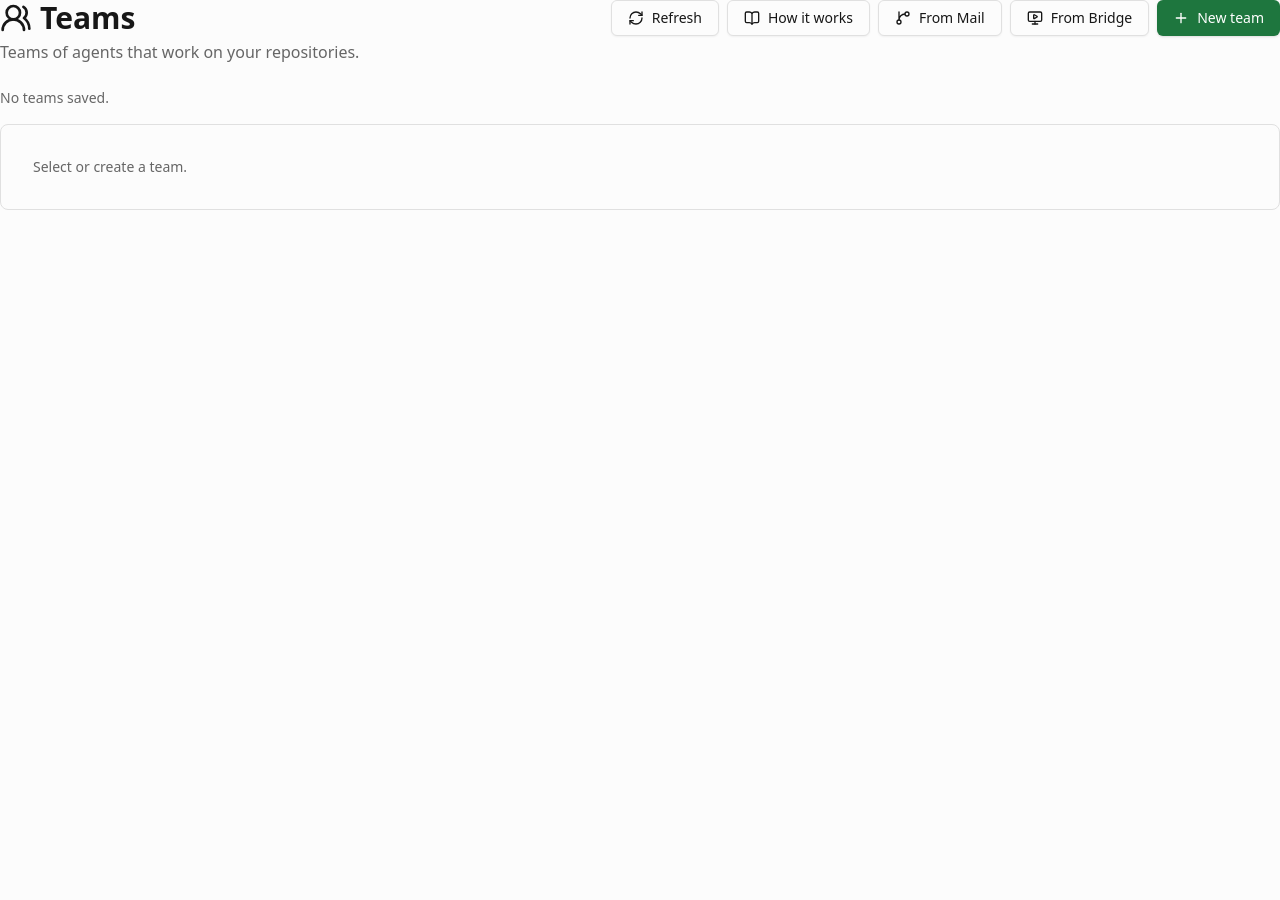
Test: From Mail › hides offline and temporary members and preselects only members that are not in a team
The width and height of the screenshot is (1280, 900).
Click the button "From Mail" at (940, 18), box [878,0,1002,36]
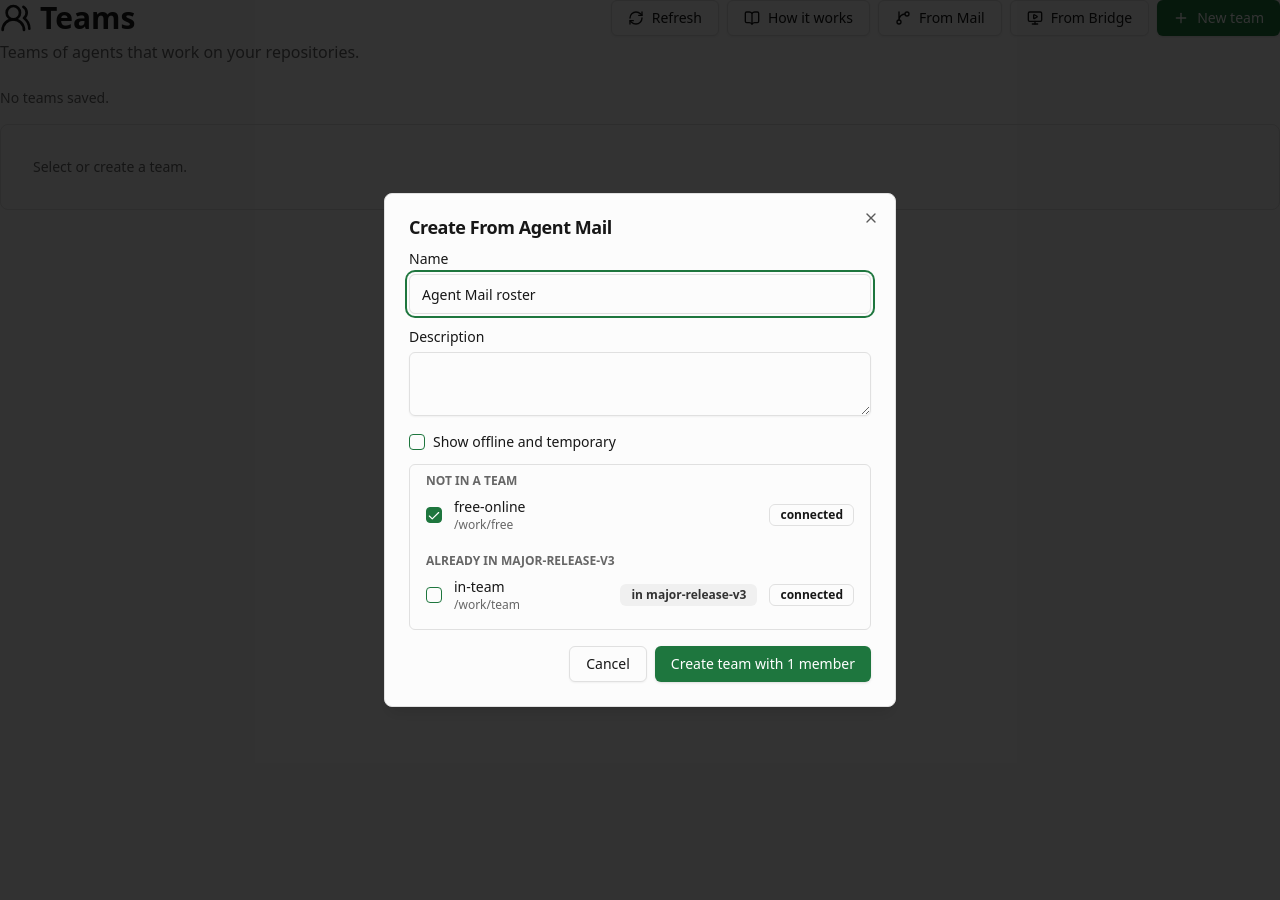
Result: the text "free-online" is shown at [454,497,526,516]
Result: the text "in-team" is shown at [454,577,505,596]
Result: the button "Create team with 1 member" is enabled at [655,646,871,682]
Click the checkbox named "Show offline and temporary" next to "Show offline and temporary" at (417, 442), box [409,434,425,450]
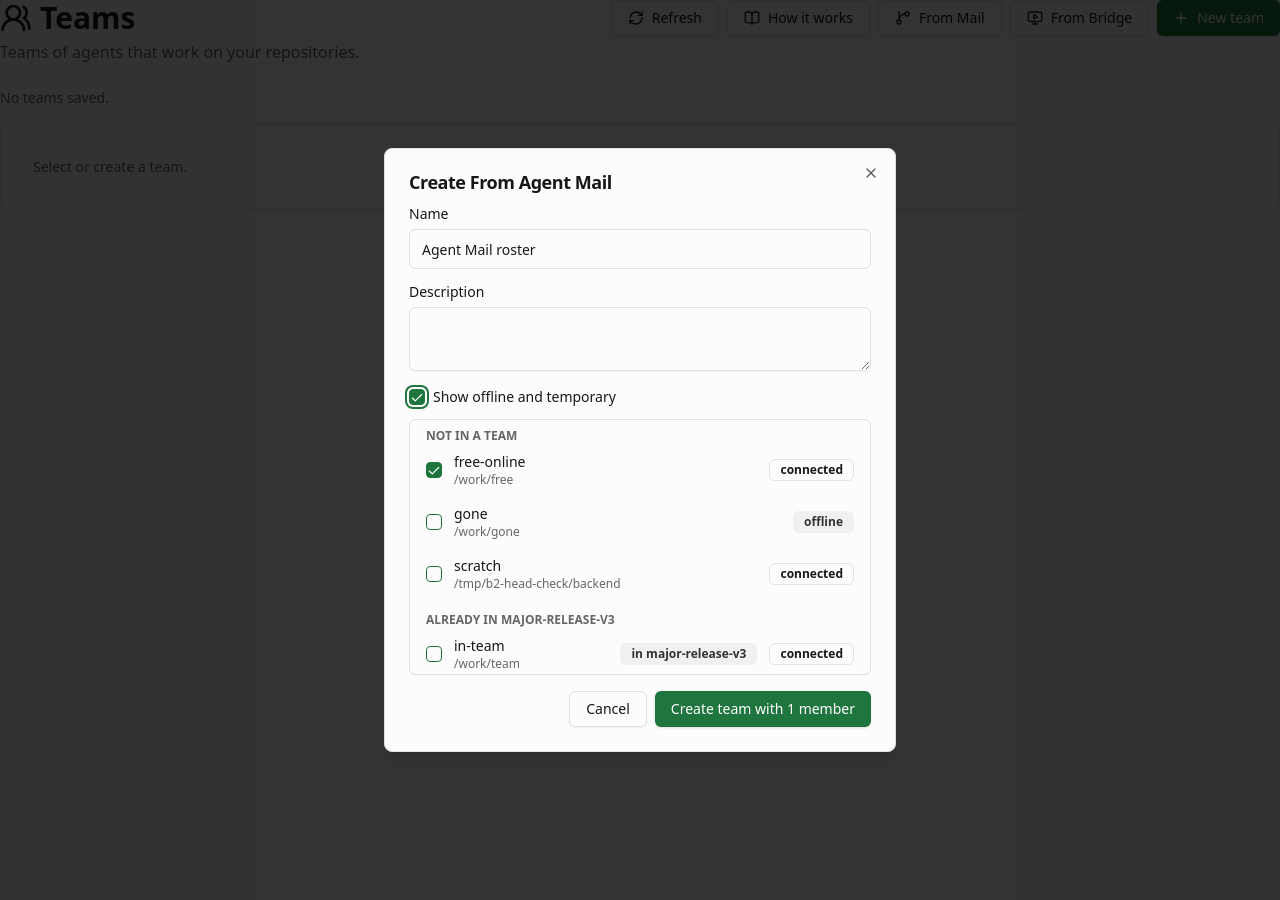
Result: the text "gone" is shown at [454,504,488,523]
Result: the text "scratch" is shown at [454,556,501,575]
